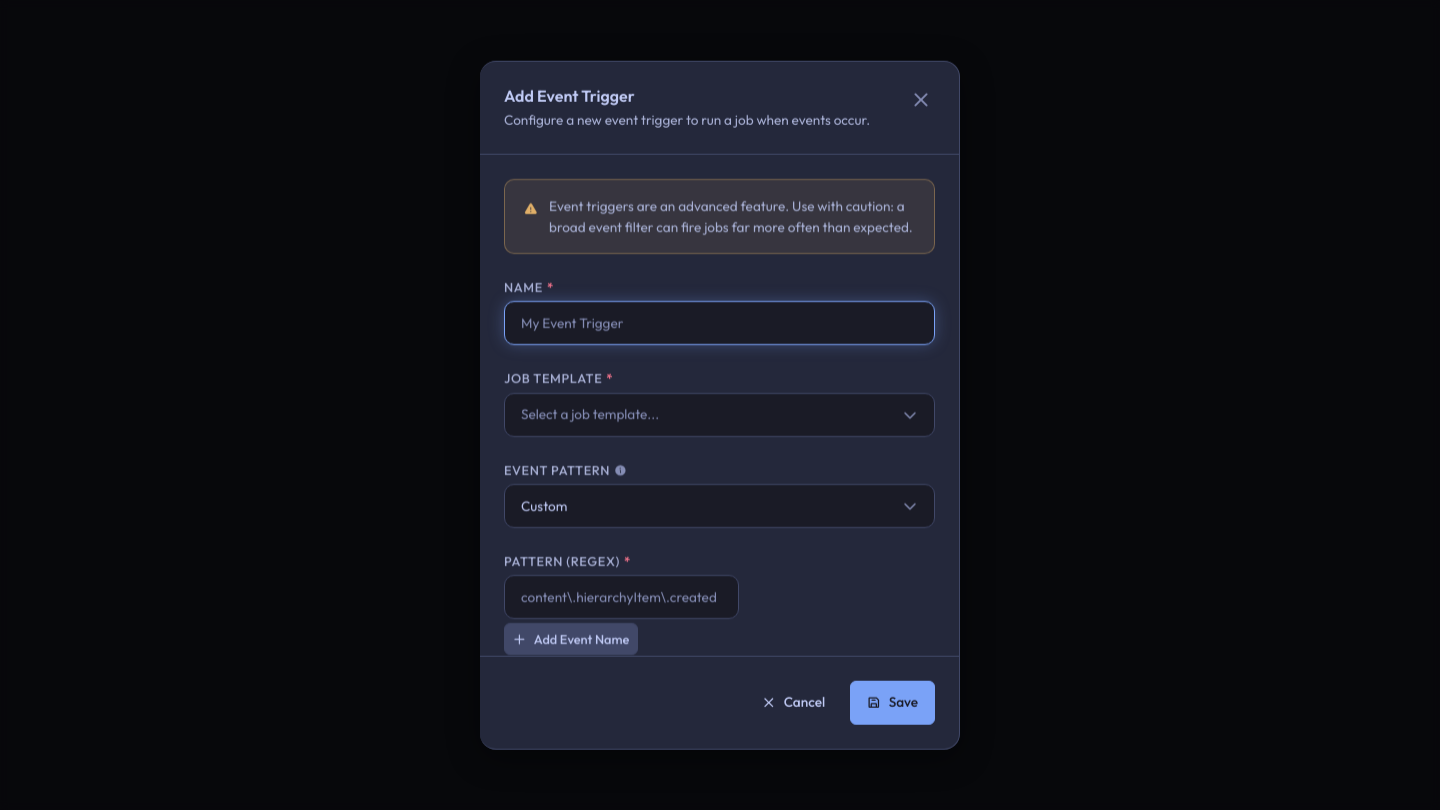
it: EventTriggerForm - Event pattern › uses a canonical published event name for the placeholder and help example
Hover over the button named "Event pattern help": (621, 470) [614, 464, 627, 476]
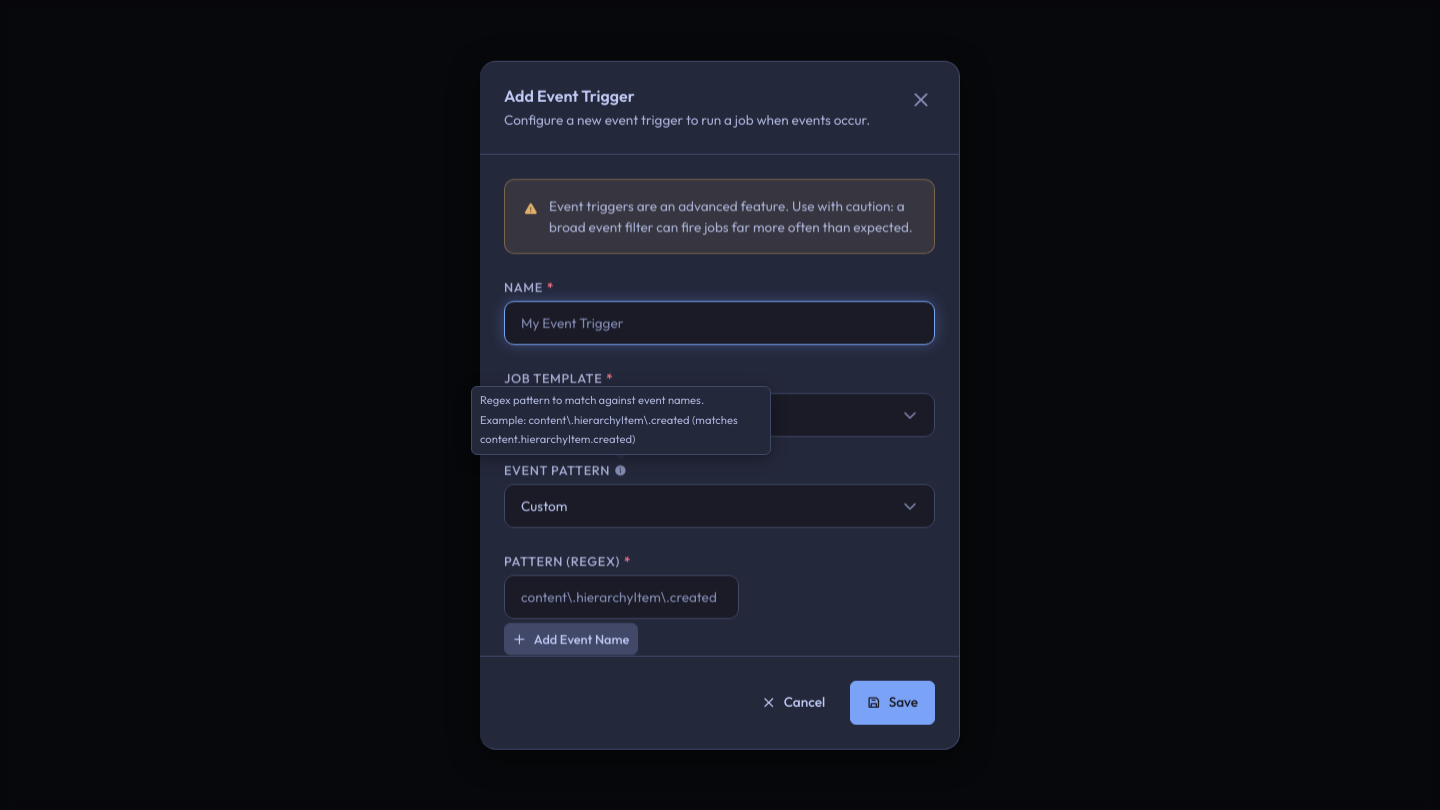
Expected: the tooltip shows "Example: content\\.hierarchyItem\\.created (matches content.hierarchyItem.created)", [471, 386, 771, 455]
